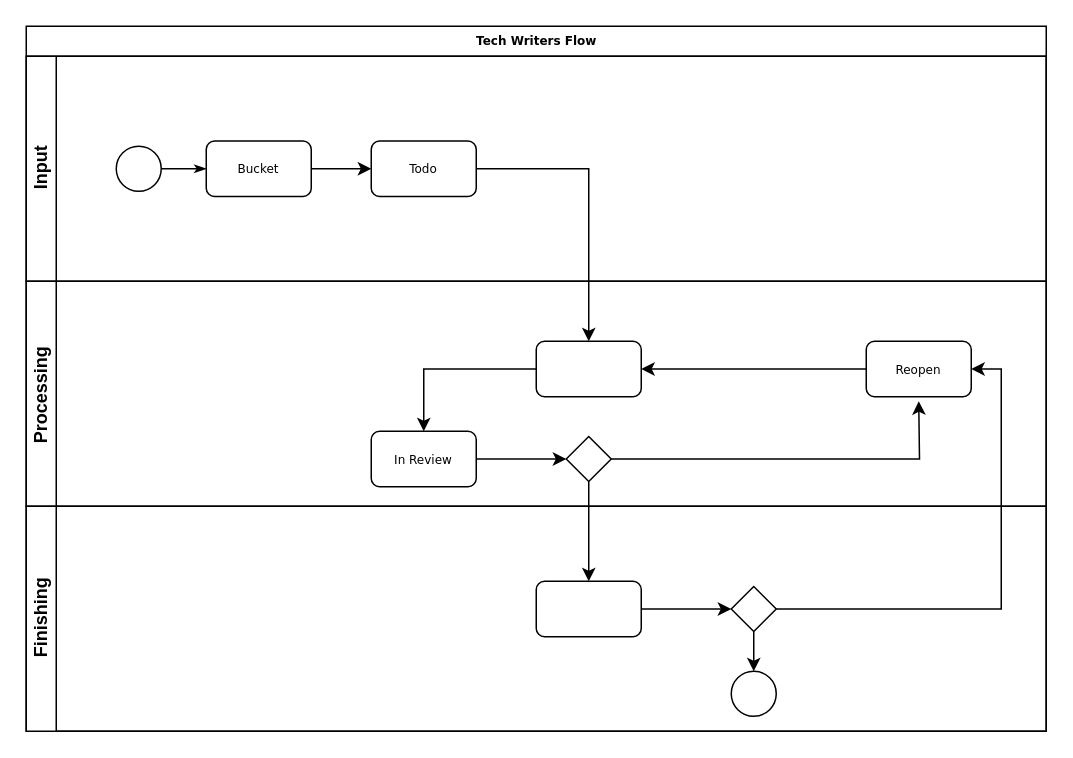
This 1073x758 diagram has some shape labels left out. Here are the shapes that lost their labels. From the top down, the centre of each, then its label:
At point (138, 168): "Start".
At point (588, 368): "In progress".
At point (588, 608): "Customer Review".
At point (753, 693): "Finish".
